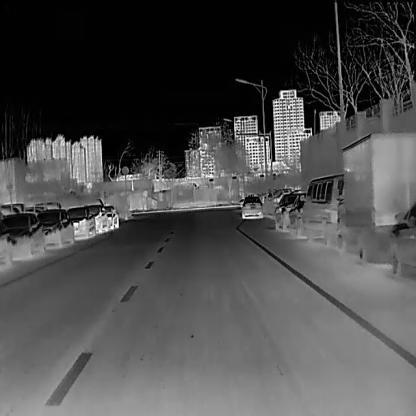car: (335, 131, 415, 264), (297, 173, 343, 246), (1, 211, 45, 261), (390, 202, 416, 279), (36, 208, 74, 249), (272, 193, 298, 231), (67, 205, 96, 239), (284, 192, 306, 236), (88, 203, 109, 233), (239, 195, 263, 219), (103, 205, 118, 230)
